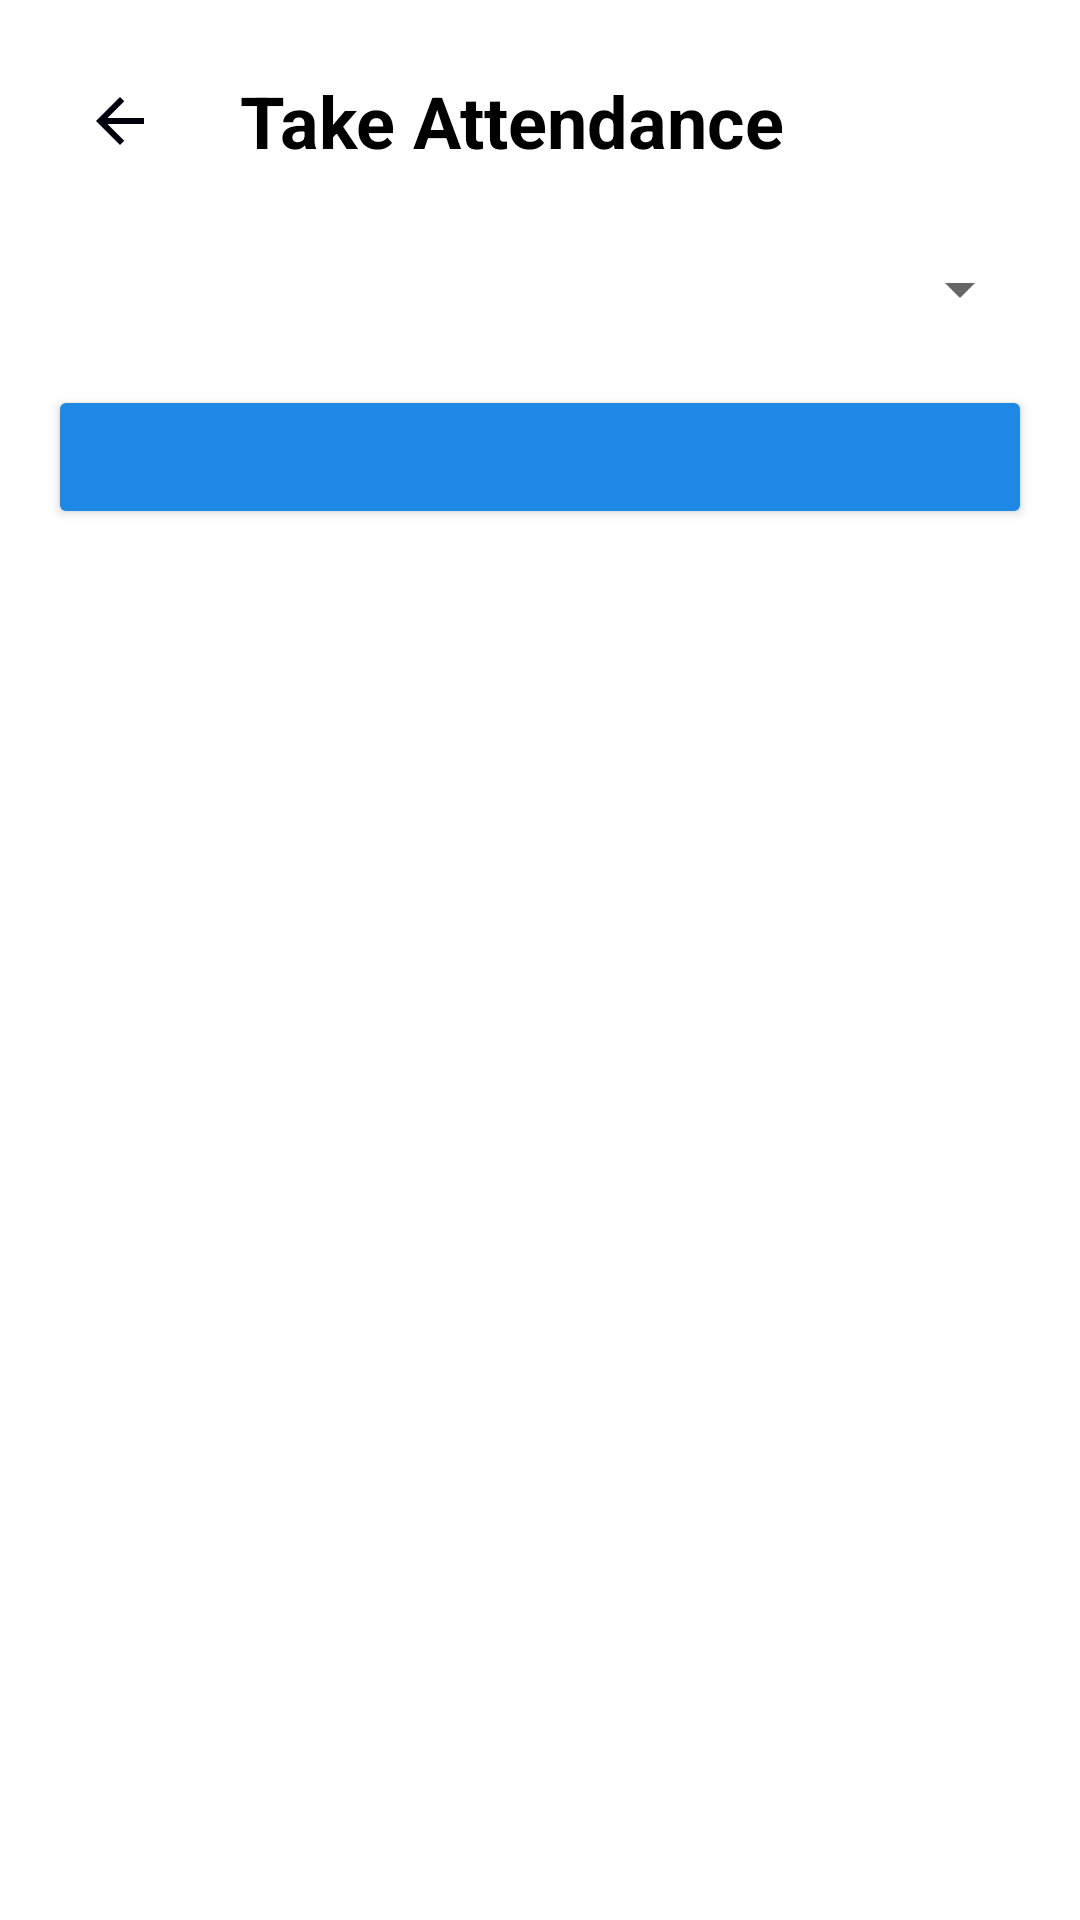

Icons on this 1080x1920 Android screen, each with the point to tap as (x=x, y=y):
Go back: (x=120, y=121)
